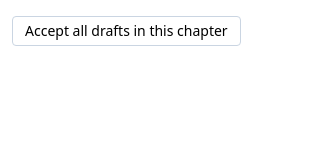
AcceptChapterButton › aRejectedRequestSaysSoAndFreesTheButton
Step 1. Click the button "Accept all drafts in this chapter" → x=126, y=31, box [12,16,241,46]
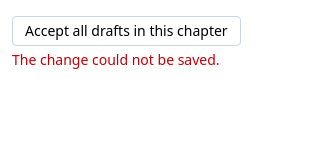
Check: the message reads "The change could not be saved.", box [12,50,220,69]
